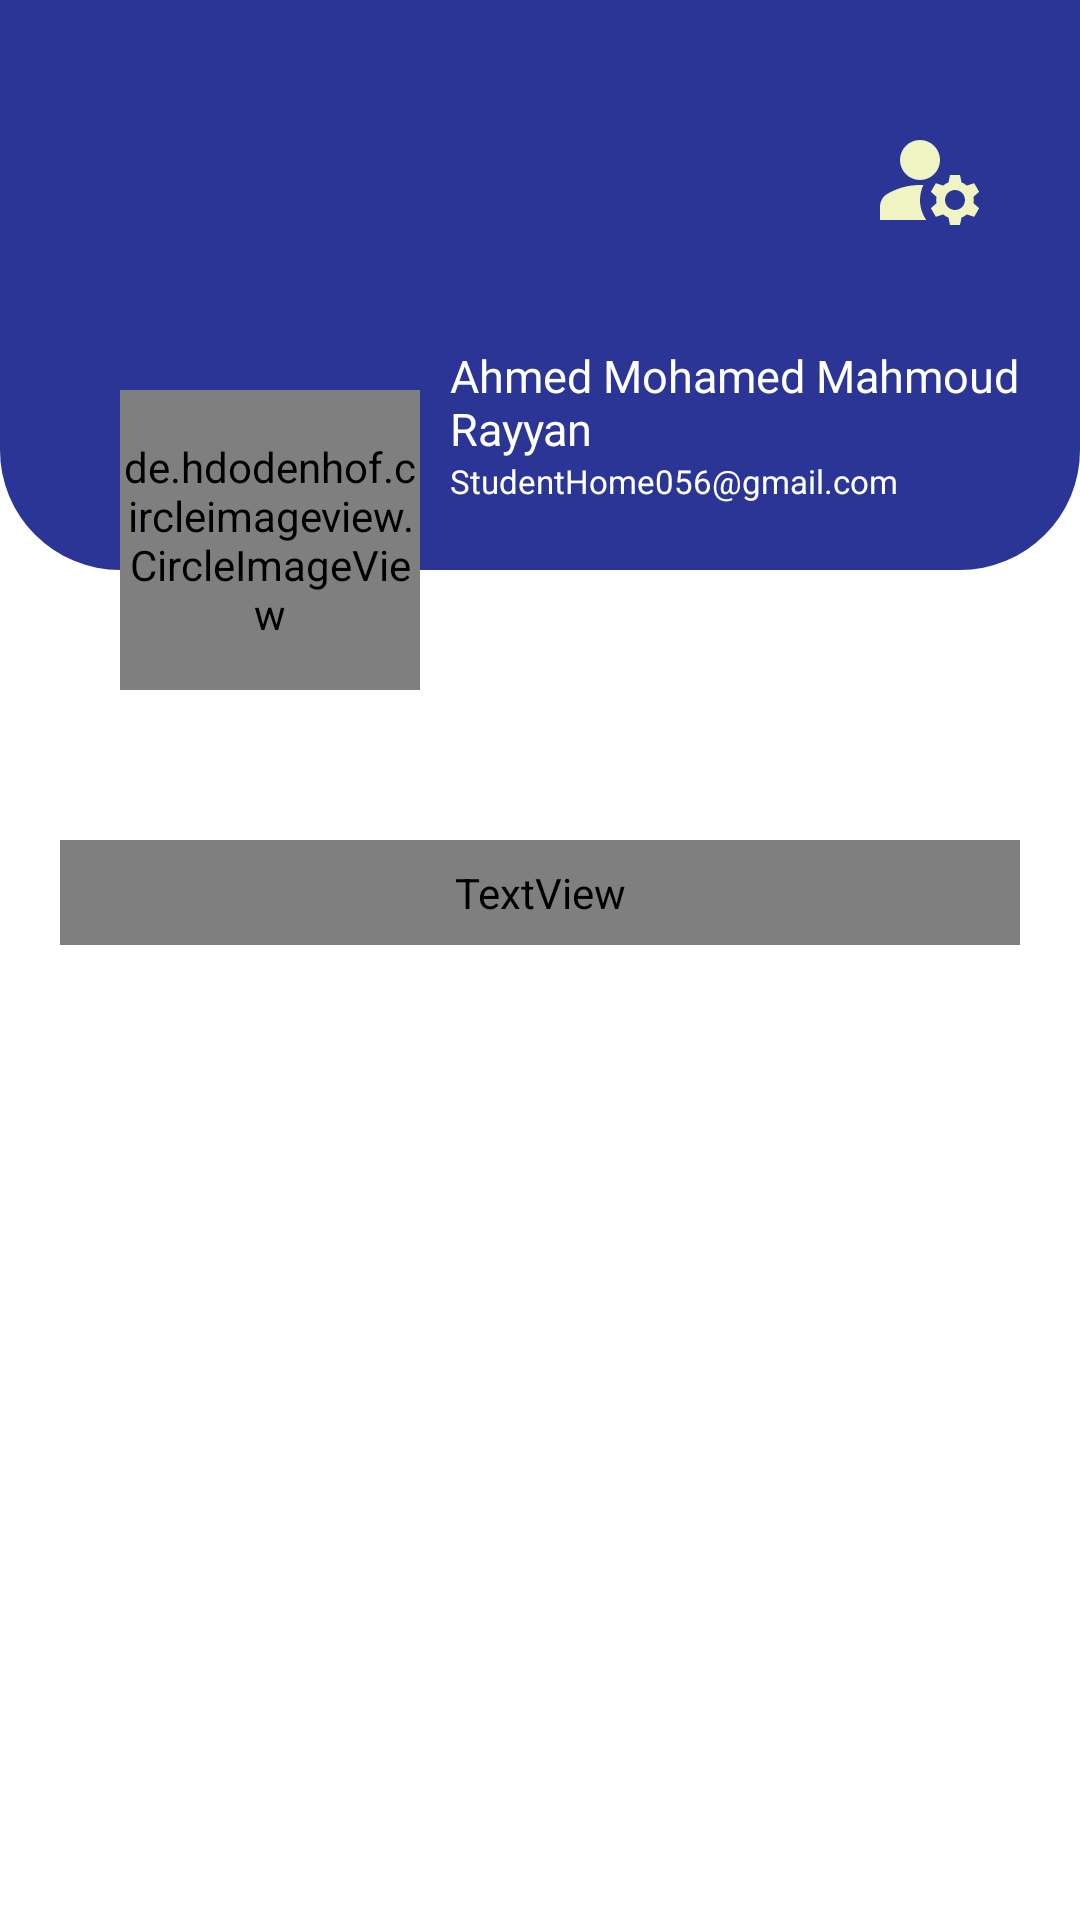

Point at icon controls on the screen. Image size 1080px x 1920px, points as (x=x, y=y).
manage accounts: (x=929, y=182)
